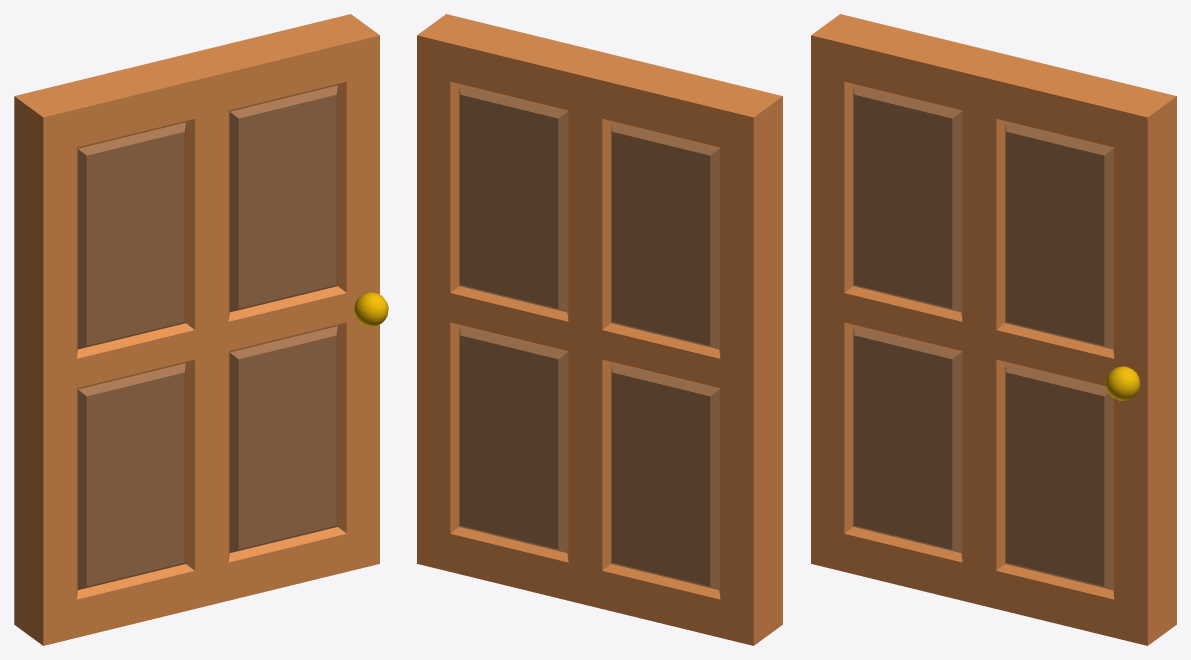
The model's file is Door.fbx.
3 renders of one model, left to right at view 1: azimuth 30°, elevation 25°; view 2: azimuth 150°, elevation 25°; view 3: azimuth 330°, elevation 25°, orthographic.
Visible parts, largest first — view 1: Das Door; view 2: Das Door; view 3: Das Door.
Part boxes in pixels (x1,y1,x2,y2): Das Door: (14,14,388,645); Das Door: (417,14,782,645); Das Door: (811,14,1176,645).
Size of the model in its own units: 100 by 23.63 by 150.
